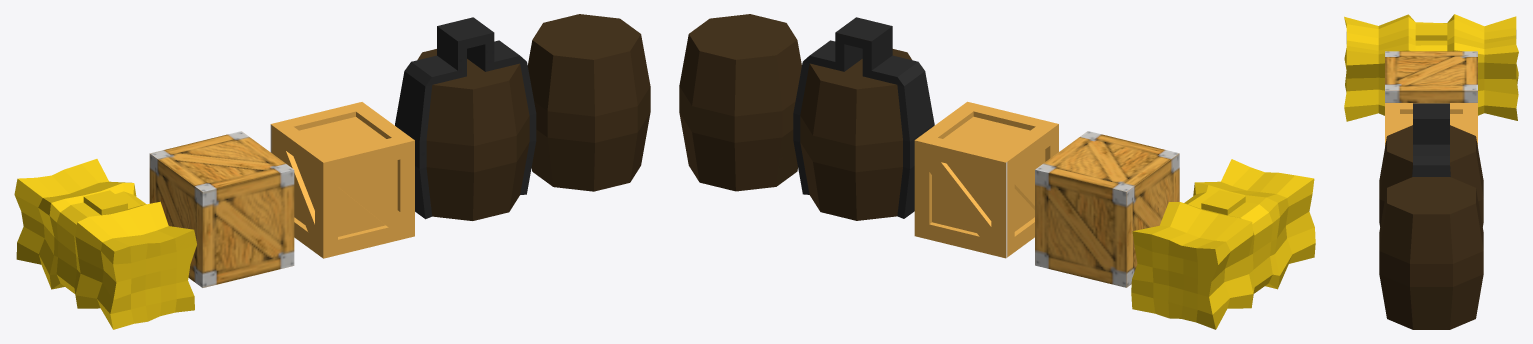
Rendered from PropsBasic.fbx.
3 views of the same model, side by side, from view 1: azimuth 30°, elevation 25°; view 2: azimuth 150°, elevation 25°; view 3: azimuth 270°, elevation 25° (orthographic). The views are drawn at different scales.
Parts seen in each view (by area): view 1: BarrelWithRing, Haybale, Barrel, Crate, Box; view 2: BarrelWithRing, Haybale, Barrel, Crate, Box; view 3: Barrel, Haybale, BarrelWithRing, Box, Crate.
Boxes of the visible parts, <box> form: BarrelWithRing: <box>395,17,536,220</box>; Haybale: <box>14,159,196,329</box>; Barrel: <box>527,14,650,191</box>; Crate: <box>270,102,414,258</box>; Box: <box>149,131,294,287</box>; BarrelWithRing: <box>793,17,934,220</box>; Haybale: <box>1131,159,1315,329</box>; Barrel: <box>679,14,801,191</box>; Crate: <box>914,101,1058,258</box>; Box: <box>1035,131,1179,287</box>; Barrel: <box>1379,177,1483,329</box>; Haybale: <box>1344,14,1518,121</box>; BarrelWithRing: <box>1379,103,1483,226</box>; Box: <box>1385,51,1477,102</box>; Crate: <box>1385,103,1477,146</box>.
Bounding box in the file's own units: 413 × 118 × 124.
